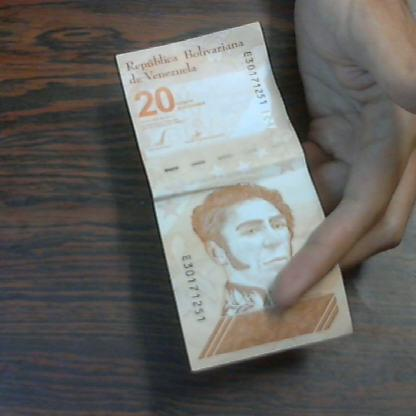twenty-front-vef: (116, 19, 352, 374)
